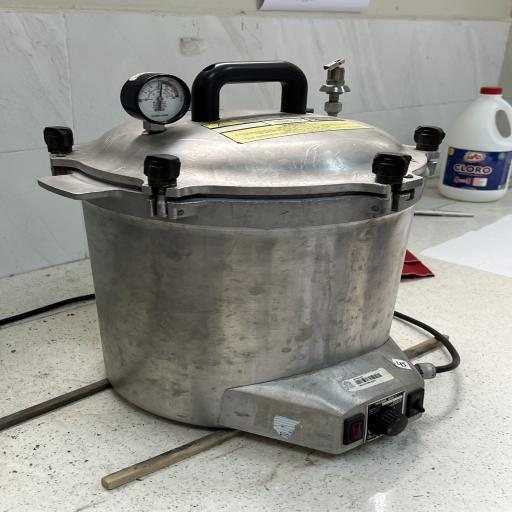Autoclave: (31, 52, 458, 469)
